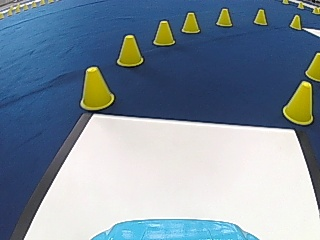cone: (79, 65, 114, 110), (282, 80, 313, 124), (116, 34, 144, 67), (153, 20, 175, 46), (305, 52, 320, 80), (181, 12, 200, 34), (215, 7, 232, 27), (253, 8, 267, 25), (290, 14, 301, 29)
